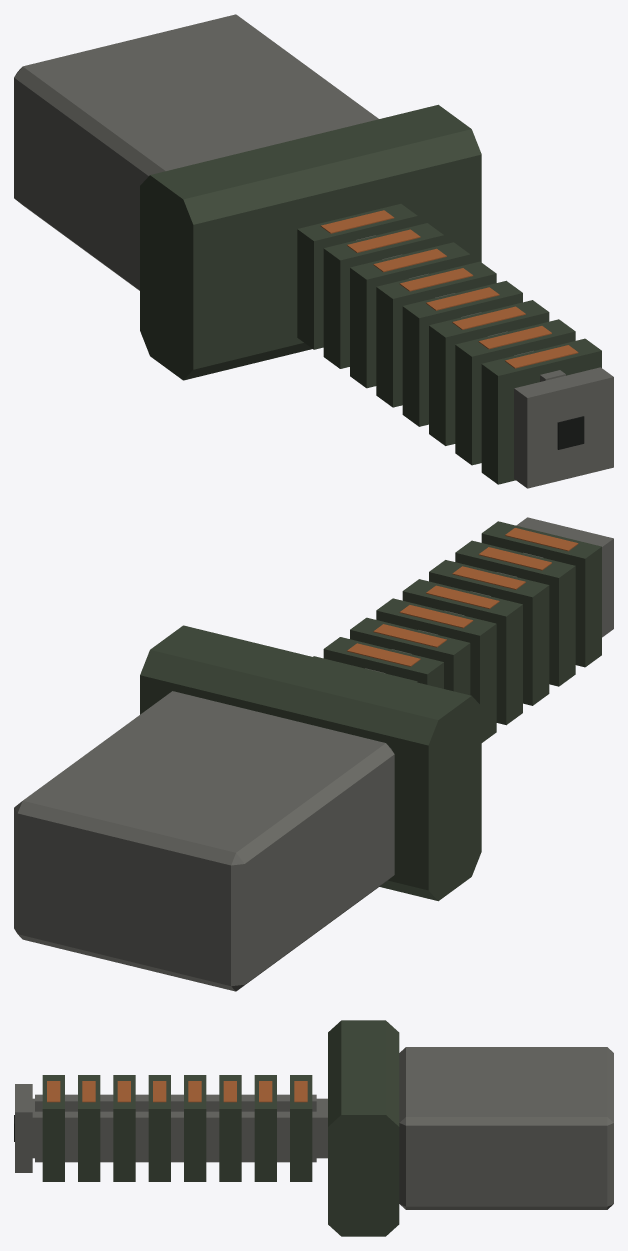
The model's file is kp30_coil.obj.
3 renders of one model, top to bottom at view 1: azimuth 30°, elevation 25°; view 2: azimuth 150°, elevation 25°; view 3: azimuth 270°, elevation 25°, orthographic. The views are drawn at different scales.
Visible parts, largest first — view 1: kp30_coil; view 2: kp30_coil; view 3: kp30_coil.
Part boxes in pixels (x1,y1,x2,y2): kp30_coil: (14, 14, 613, 488); kp30_coil: (14, 517, 613, 991); kp30_coil: (14, 1020, 613, 1236).
Size of the model in its own units: 1 by 0.6 by 2.68.
